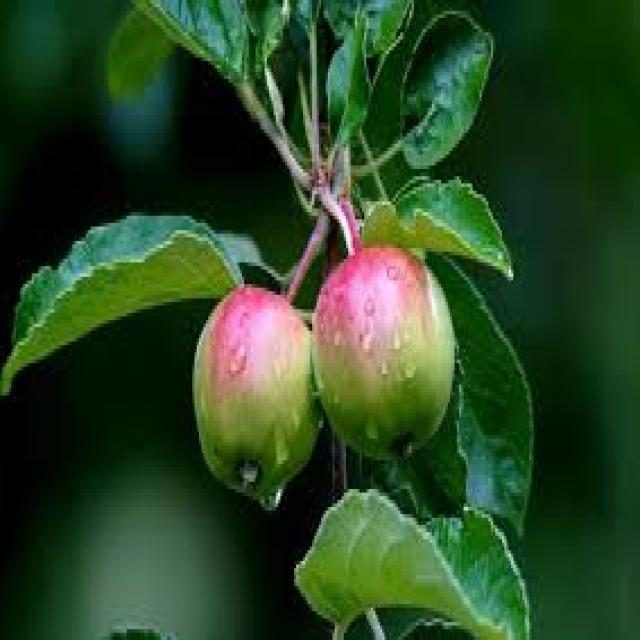Apple: (311, 243, 458, 459), (190, 284, 321, 496)
